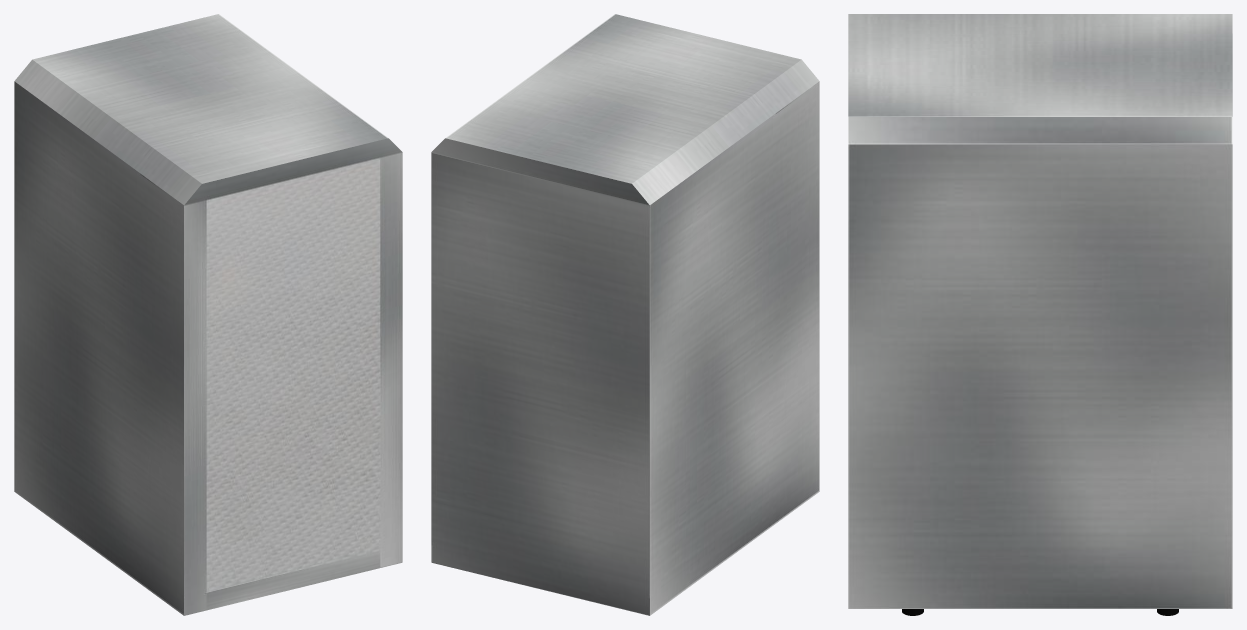
The model's file is Napkin Dispenser.fbx.
3 renders of one model, left to right at view 1: azimuth 30°, elevation 25°; view 2: azimuth 150°, elevation 25°; view 3: azimuth 270°, elevation 25°, orthographic. The views are drawn at different scales.
Parts seen in each view (by area): view 1: Cube; view 2: Cube; view 3: Cube.
Part boxes in pixels (x1,y1,x2,y2): Cube: (14,14,402,615); Cube: (431,14,819,615); Cube: (848,14,1232,608).
Bounding box in the file's own units: 223 × 435 × 300.
